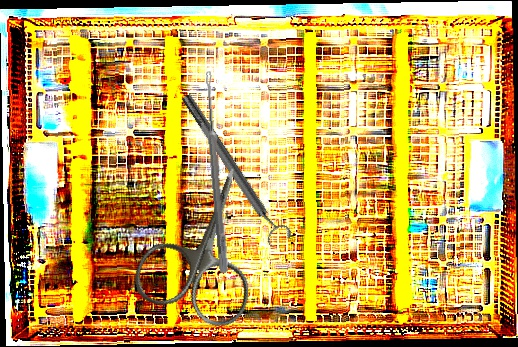Fixation Ring: (175, 87, 294, 251)
Iris Scissors: (126, 148, 290, 335)
Surgical Spoon: (202, 70, 230, 274)
